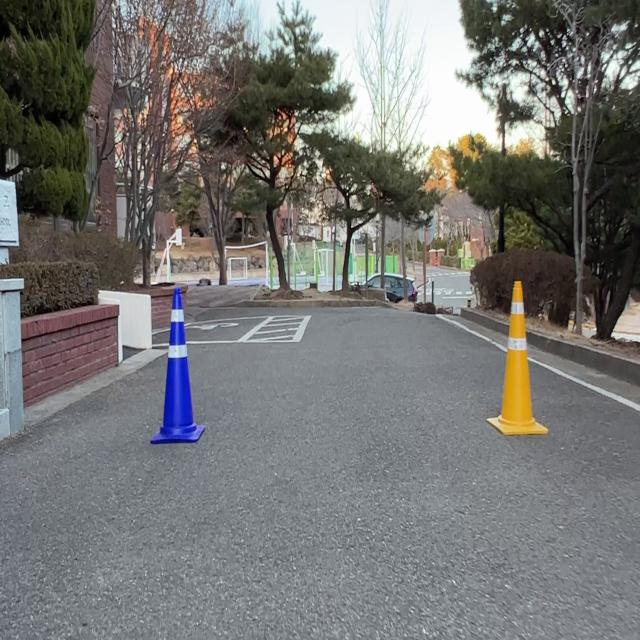cone: (485, 282, 547, 436), (150, 283, 203, 444)
